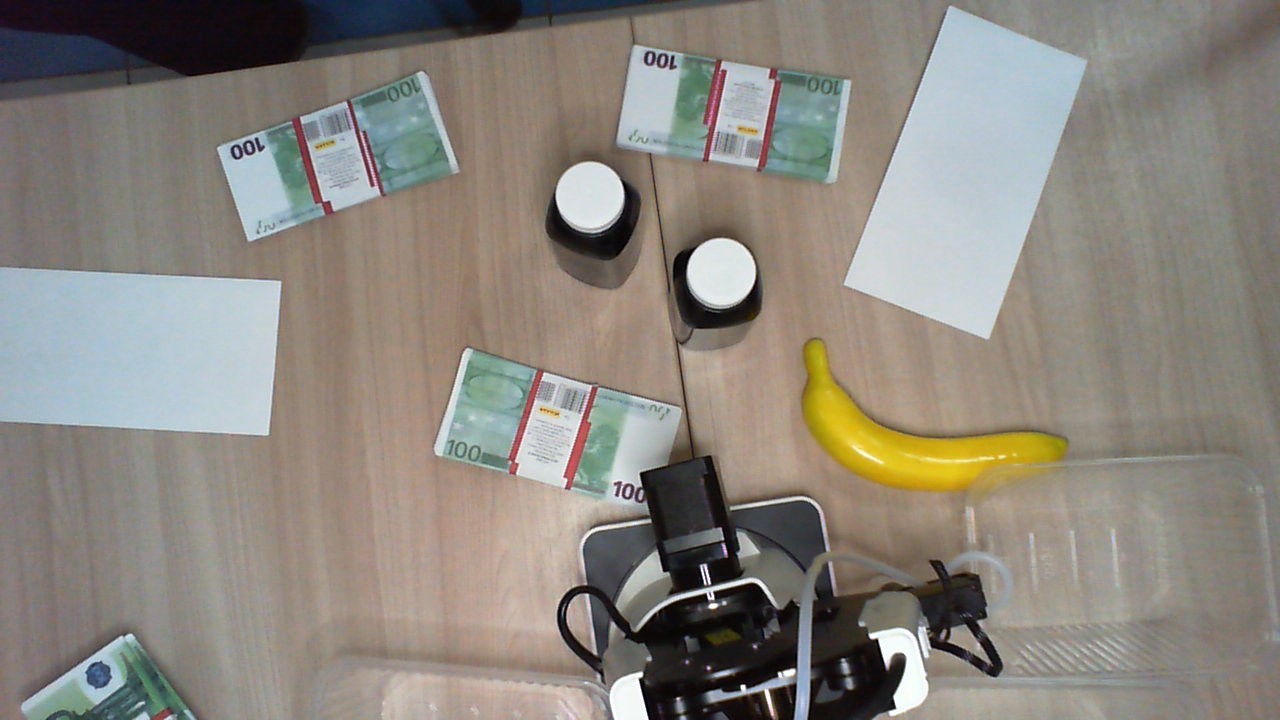banana: (800, 336, 1067, 490)
bottle: (542, 163, 642, 255), (673, 238, 763, 328)
convert: (842, 4, 1093, 342), (1, 261, 293, 445)
money: (217, 67, 467, 245), (425, 345, 686, 497), (609, 44, 853, 186), (21, 624, 198, 720)
